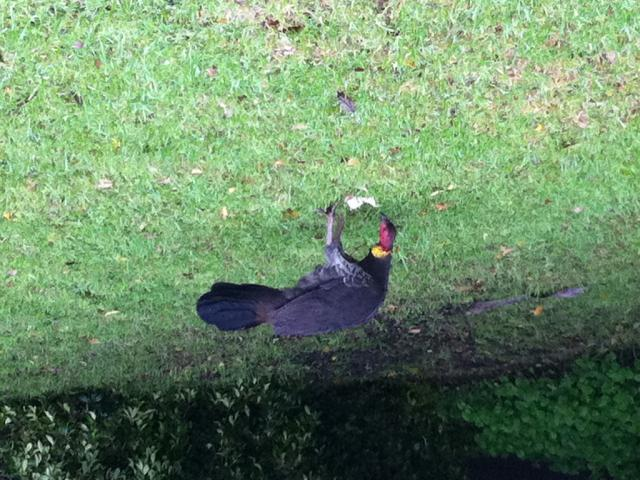Bird: (196, 188, 402, 332)
